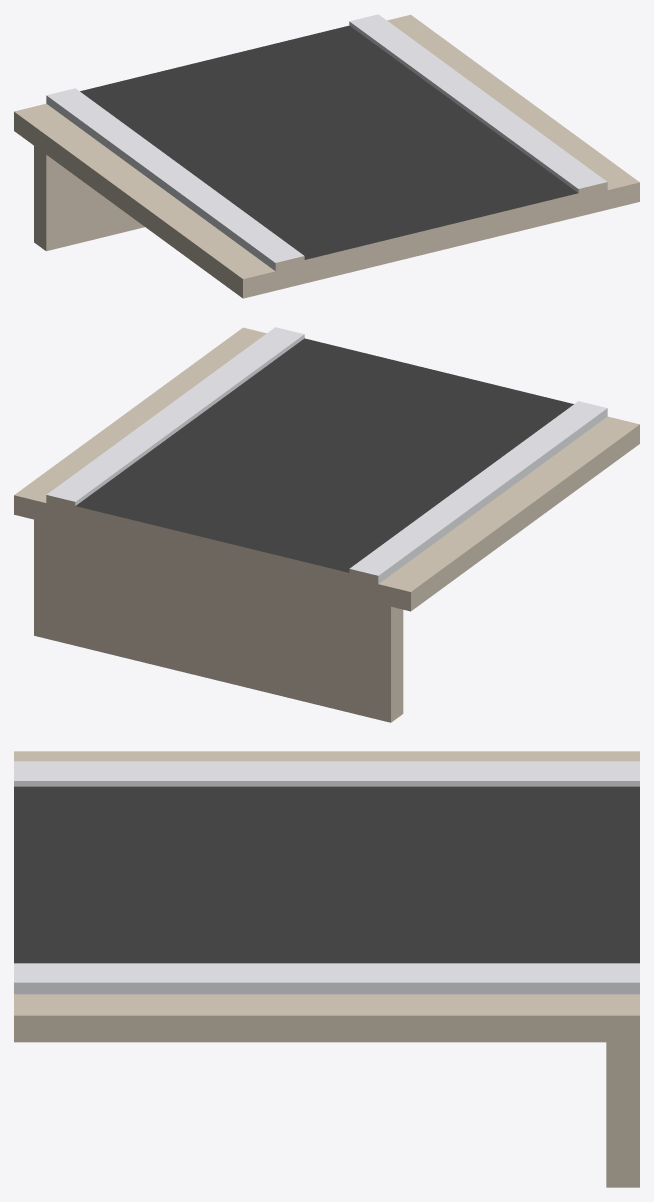
Rendered from roadStraightBridgeStart.fbx.
The picture shows the model from 3 angles, top to bottom: view 1: azimuth 30°, elevation 25°; view 2: azimuth 150°, elevation 25°; view 3: azimuth 270°, elevation 25°; orthographic projection. The views are drawn at different scales.
Visible parts, largest first — view 1: roadStraightBridgeStart; view 2: roadStraightBridgeStart; view 3: roadStraightBridgeStart.
Part boxes in pixels (x1=…): roadStraightBridgeStart: x1=14, y1=14, x2=639, y2=298; roadStraightBridgeStart: x1=14, y1=327, x2=639, y2=722; roadStraightBridgeStart: x1=14, y1=751, x2=639, y2=1187.
Size of the model in its own units: 1000 by 1000 by 346.
